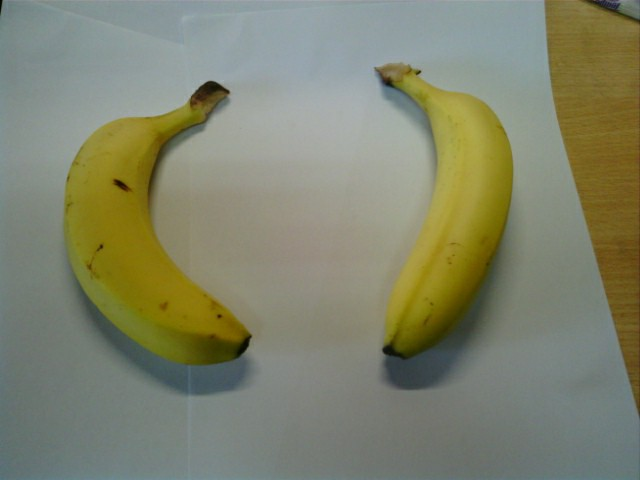fresh_banana: (371, 62, 517, 360)
normal_banana: (64, 83, 261, 365)
